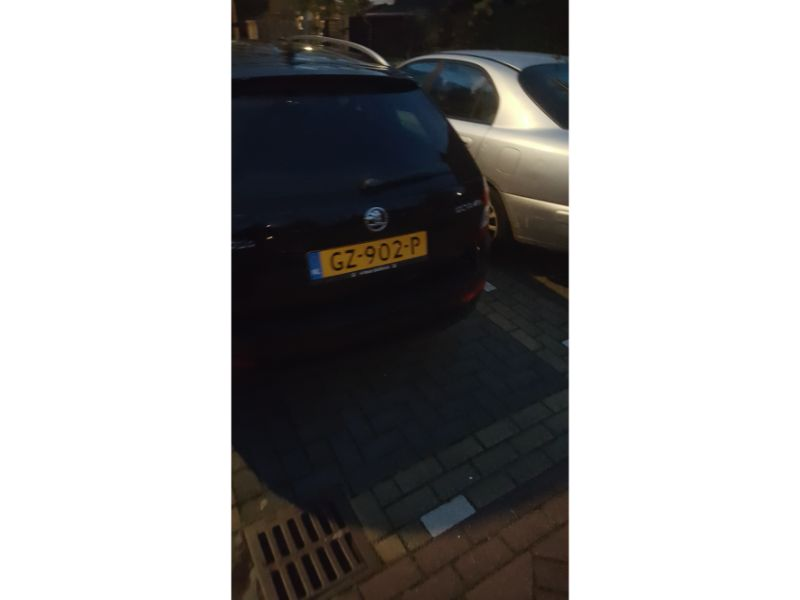kenteken: (299, 225, 442, 284)
